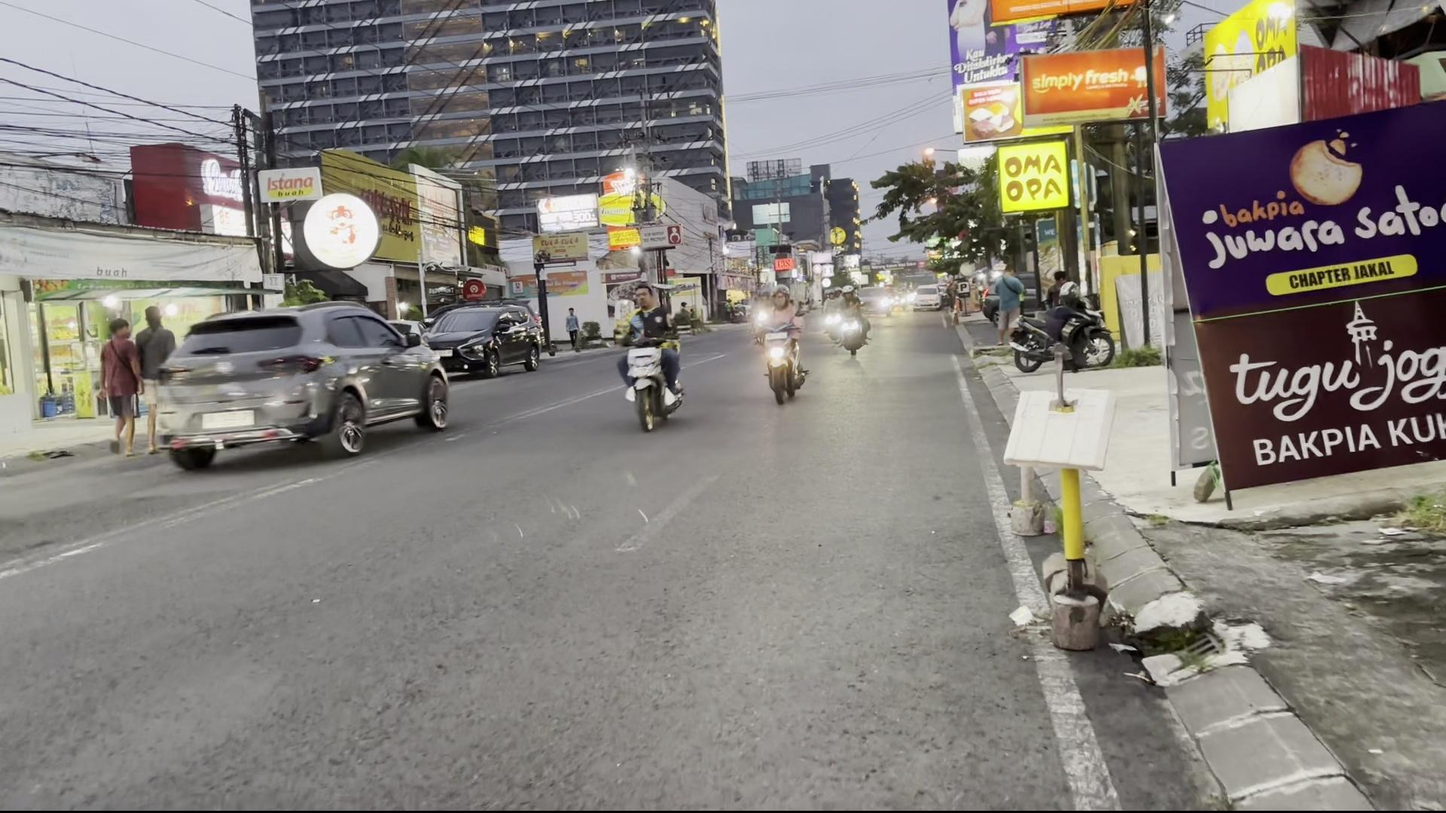nohelm: (104, 315, 136, 341), (633, 284, 658, 313)
riding: (612, 282, 692, 440)
